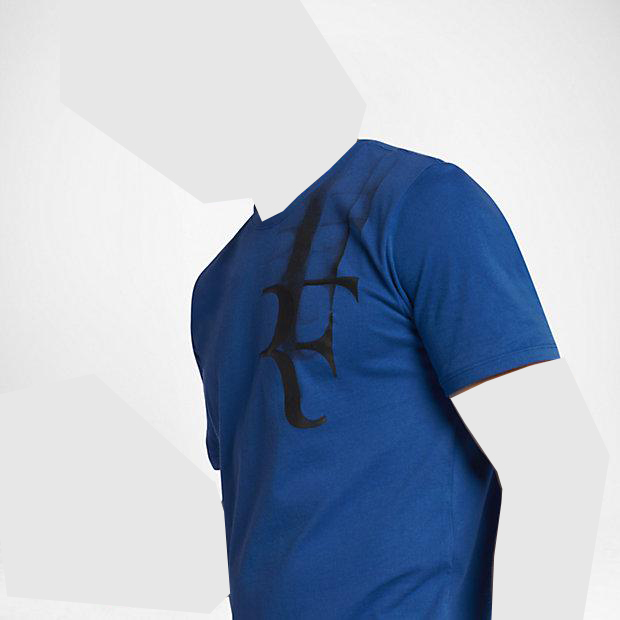teeshirt: (187, 138, 566, 619)
